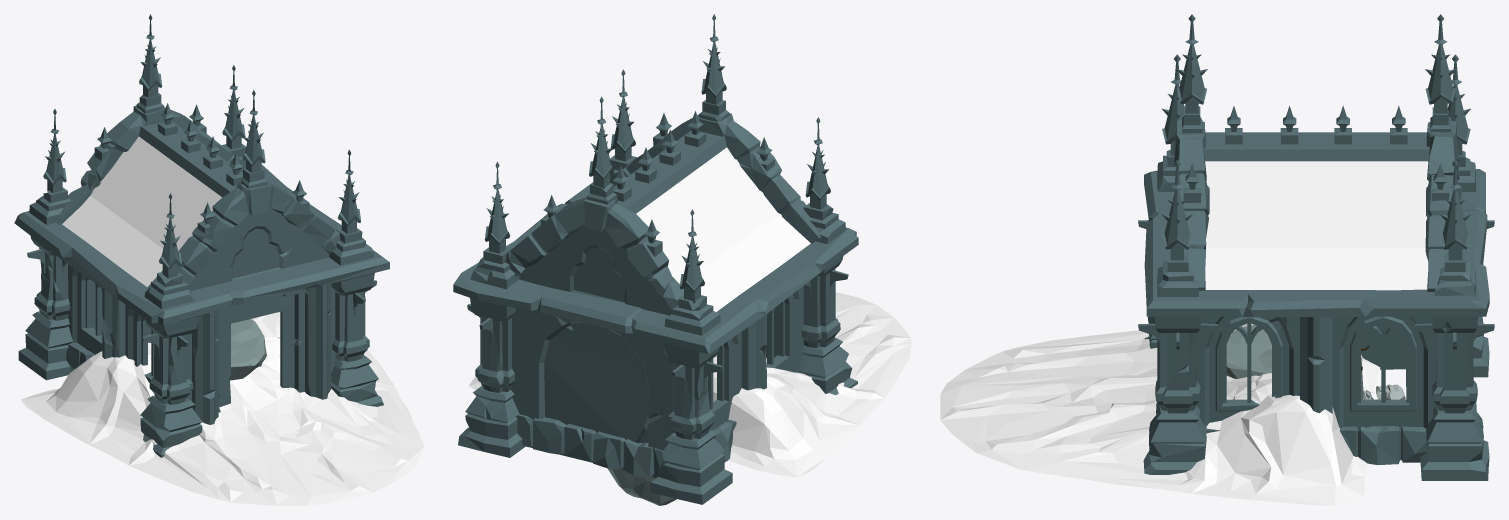
File: CemeteryEnvironment.fbx
3 views of the same model, side by side, from view 1: azimuth 30°, elevation 25°; view 2: azimuth 150°, elevation 25°; view 3: azimuth 270°, elevation 25° (orthographic). The views are drawn at different scales.
Visible parts, largest first — view 1: _crypt, _Shore, _CliffRock; view 2: _crypt, _Shore, _CliffRock; view 3: _crypt, _Shore, _CliffRock.
Boxes of the visible parts, x1=… form: _crypt: x1=14, y1=14, x2=389, y2=457; _Shore: x1=21, y1=312, x2=424, y2=505; _CliffRock: x1=230, y1=319, x2=266, y2=380; _crypt: x1=453, y1=14, x2=858, y2=504; _Shore: x1=469, y1=292, x2=911, y2=477; _CliffRock: x1=607, y1=354, x2=716, y2=505; _crypt: x1=1138, y1=14, x2=1494, y2=480; _Shore: x1=940, y1=323, x2=1380, y2=505; _CliffRock: x1=1226, y1=325, x2=1363, y2=399.
Size of the model in its own units: 2754 by 3277 by 3442.
